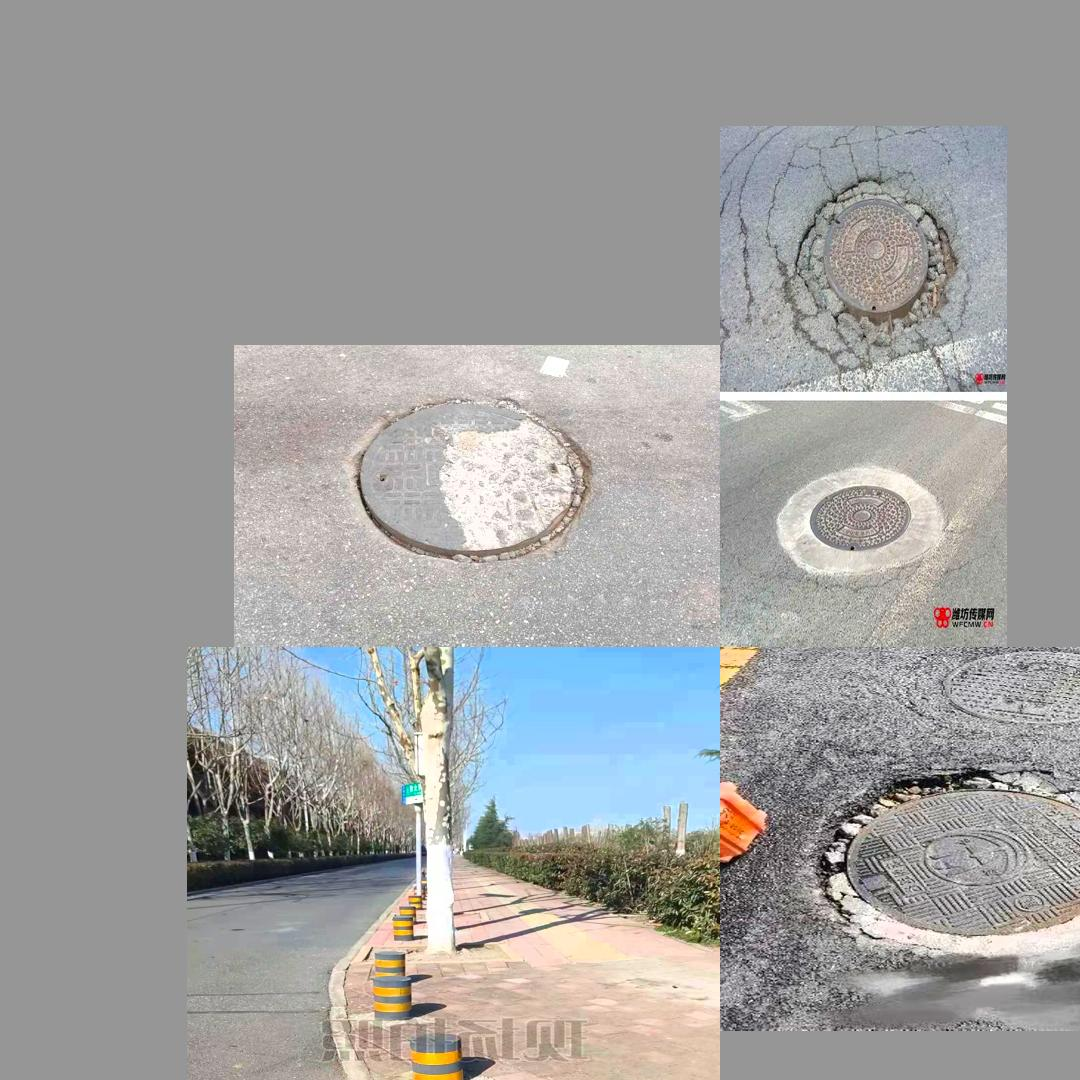circle: (817, 769, 1080, 964), (345, 388, 603, 566), (785, 175, 970, 358)
good: (938, 650, 1080, 724)
